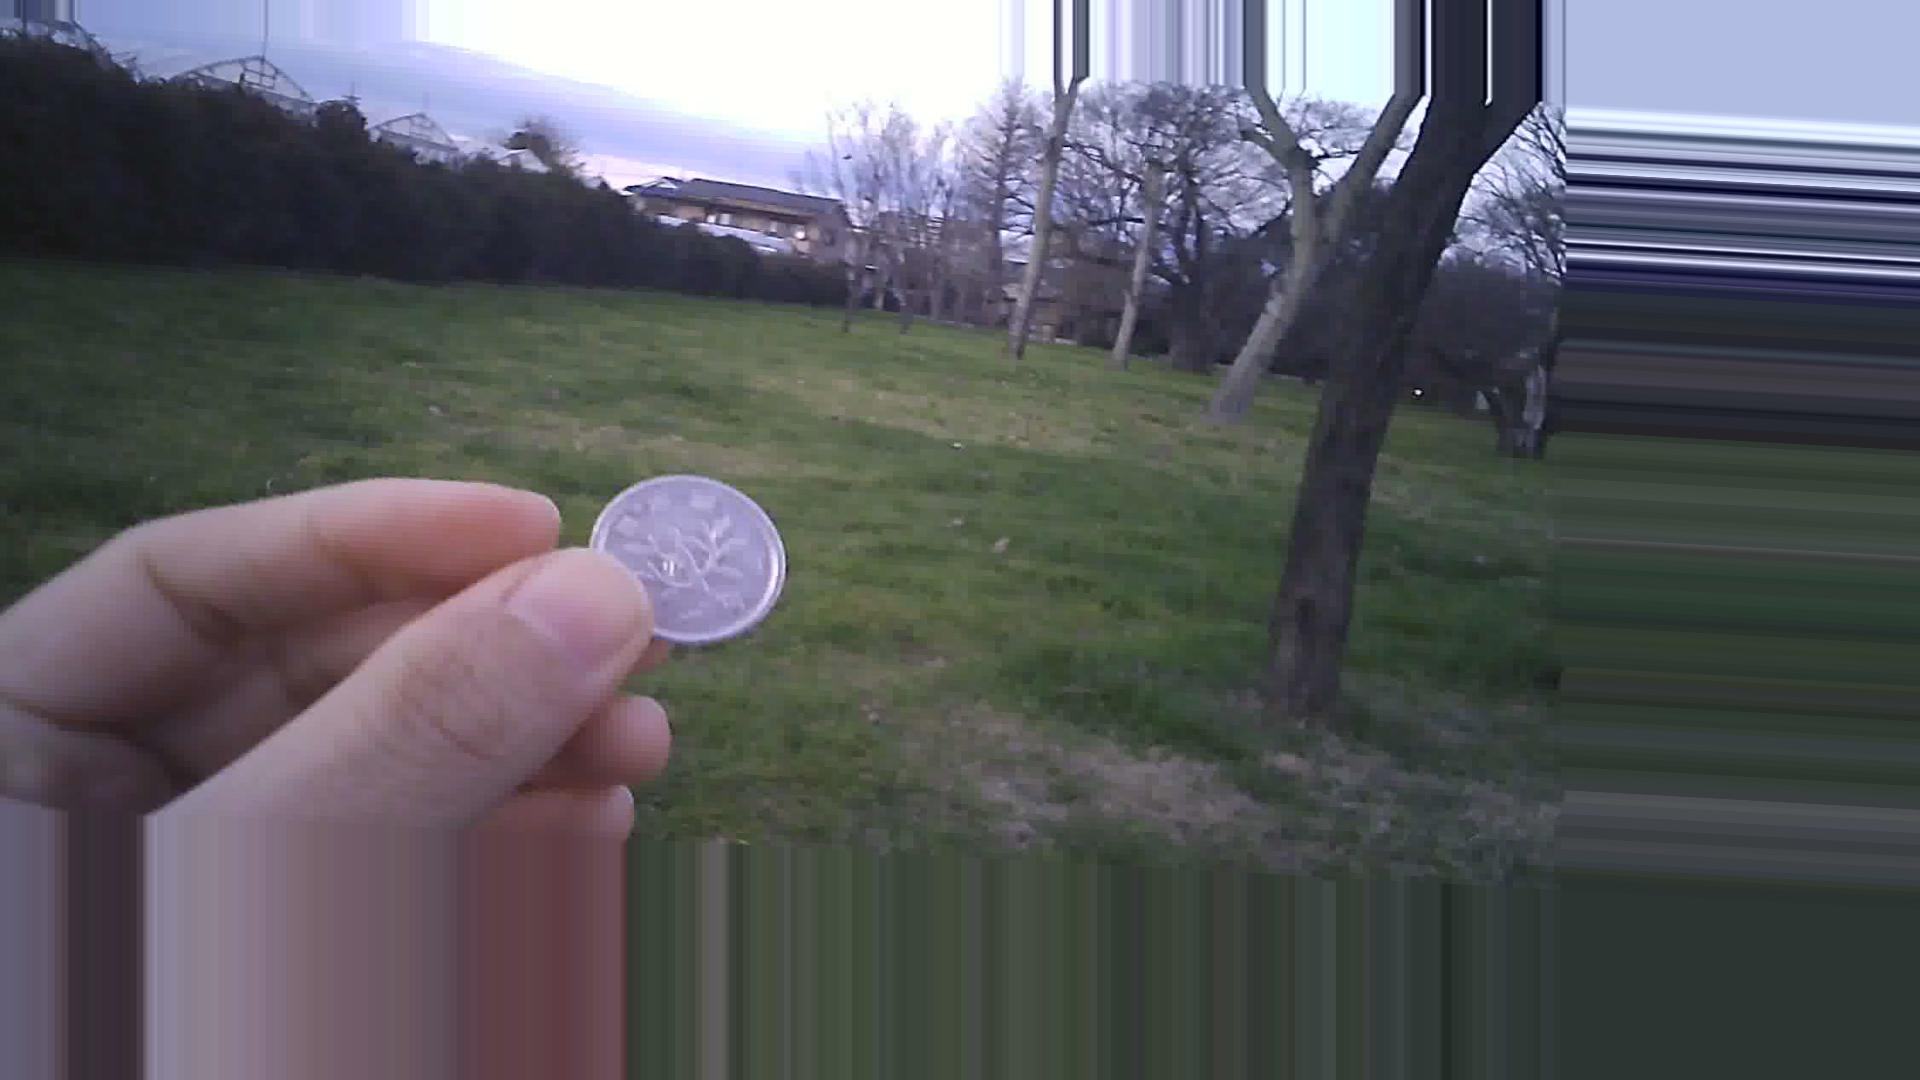1 Yen: (580, 458, 775, 657)
